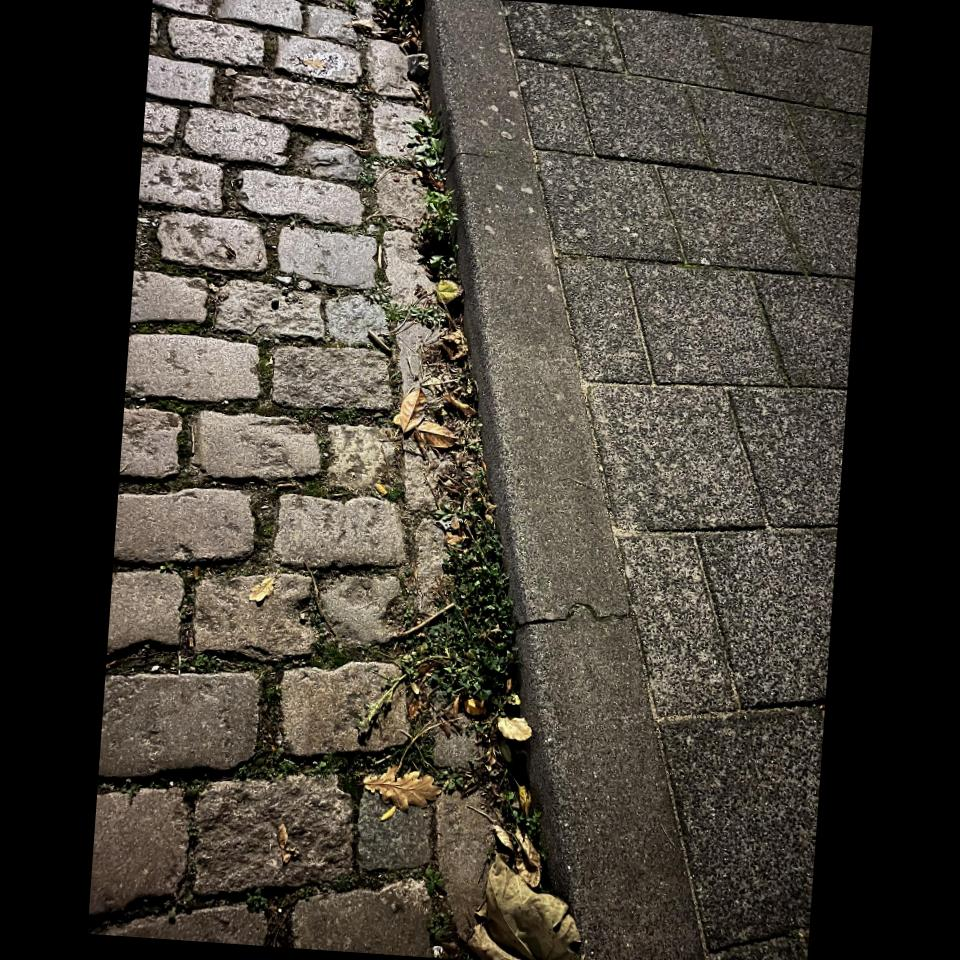weed: (397, 439, 517, 720), (413, 126, 454, 288)
